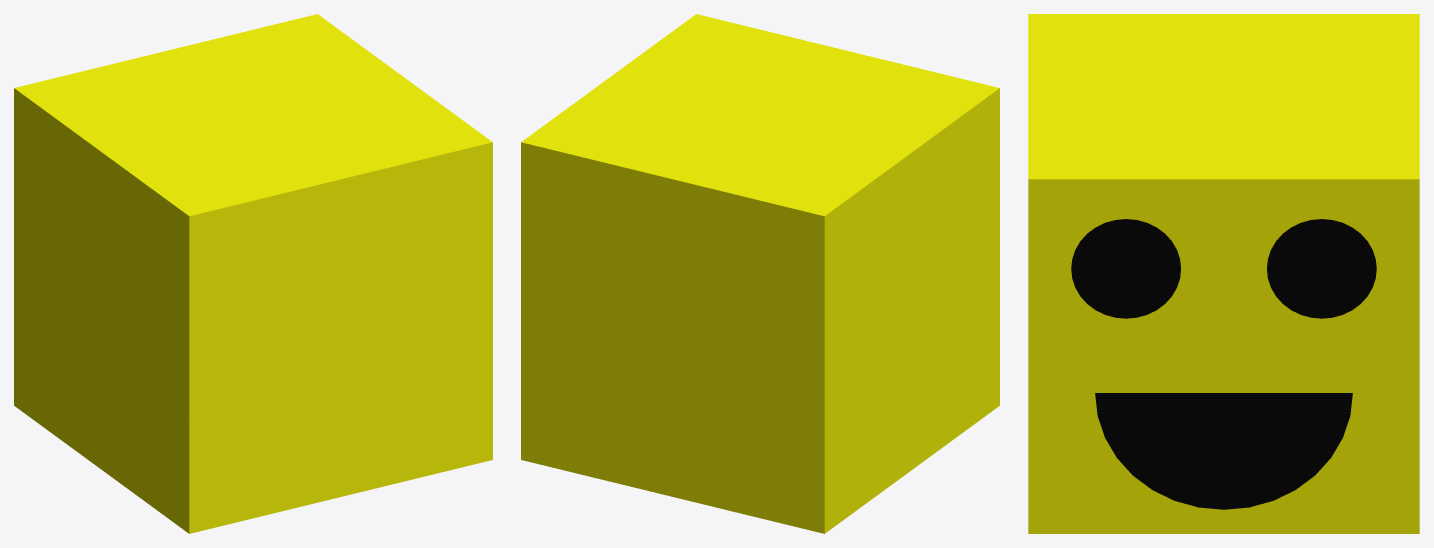
Rendered from Smiley.fbx.
3 views of the same model, side by side, from view 1: azimuth 30°, elevation 25°; view 2: azimuth 150°, elevation 25°; view 3: azimuth 270°, elevation 25° (orthographic). The views are drawn at different scales.
Parts seen in each view (by area): view 1: Cube; view 2: Cube; view 3: Cube.
Part boxes in pixels (x1=…): Cube: x1=14, y1=14, x2=492, y2=533; Cube: x1=521, y1=14, x2=999, y2=533; Cube: x1=1028, y1=14, x2=1419, y2=533.
Size of the model in its own units: 2.01 by 2 by 2.
